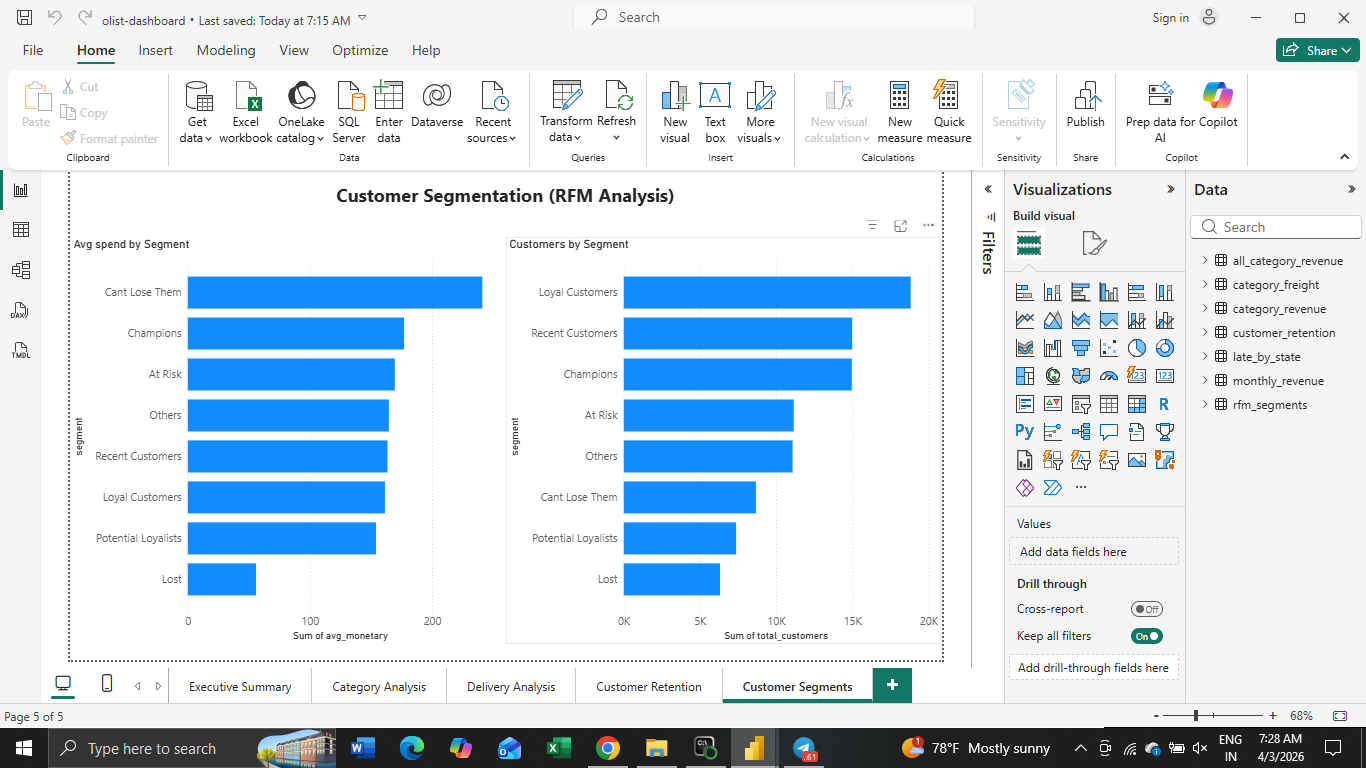

What the dashboard file says about the page in this screenshot:
{"tool":"powerbi","page":{"name":"Customer Segments","canvas":[1280,720],"ordinal":4},"visuals":[{"type":"clusteredBarChart","title":"Customers by Segment","fields":{"Category":["rfm_segments.segment"],"Y":["Sum(rfm_segments.total_customers)"]},"box":[640,98.2,640,598.8],"z":0},{"type":"clusteredBarChart","title":"Avg spend by Segment","fields":{"Category":["rfm_segments.segment"],"Y":["Sum(rfm_segments.avg_monetary)"]},"box":[0,98.2,640,598.8],"z":1000},{"type":"textbox","box":[0,13.7,1280,60.9],"z":2000}]}

Visuals, with their boxes on the page's 1280x720 design canvas (x1, y1, x2, y2). These are canvas units, not pixel positions in the 1366x768 screenshot, which may show the page scaled, cropped or inside an application window:
"Customers by Segment" clusteredBarChart: BBox(640, 98, 1280, 697)
"Avg spend by Segment" clusteredBarChart: BBox(0, 98, 640, 697)
textbox: BBox(0, 14, 1280, 75)
